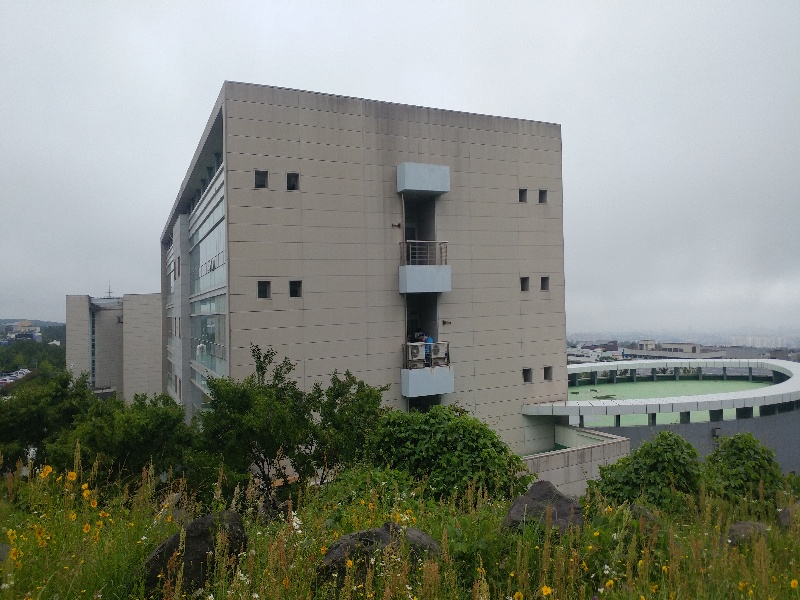College of Marine Science: (166, 89, 585, 462)
Engineering College Building 4: (70, 298, 164, 404)
